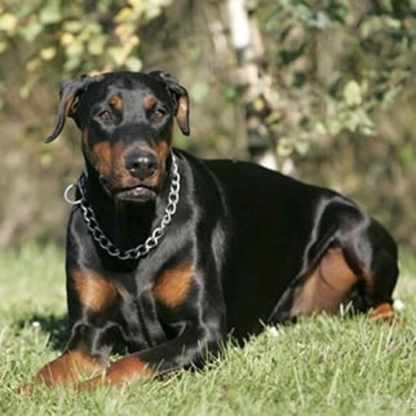doberman: (42, 66, 401, 403)
